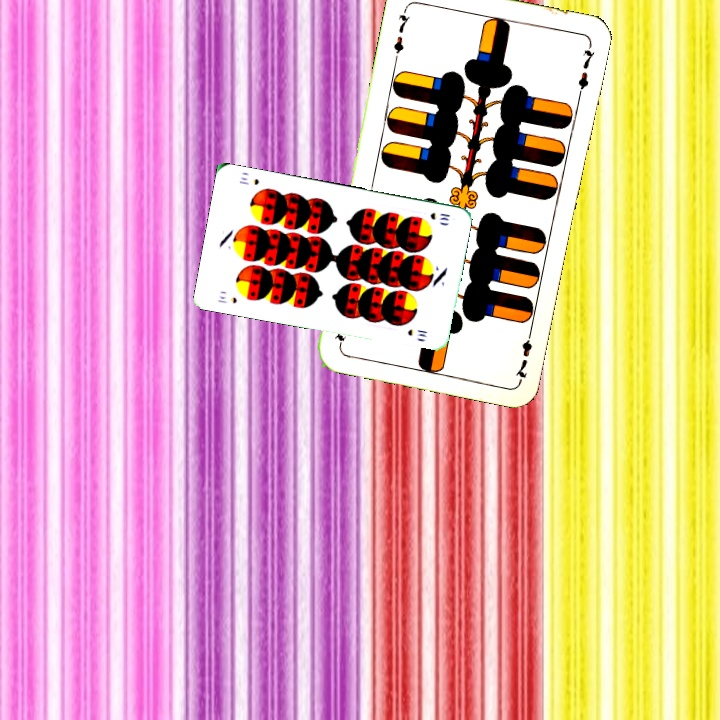E7: (511, 324, 535, 383), (390, 3, 413, 62)
S10: (426, 208, 452, 223), (214, 292, 239, 306)
